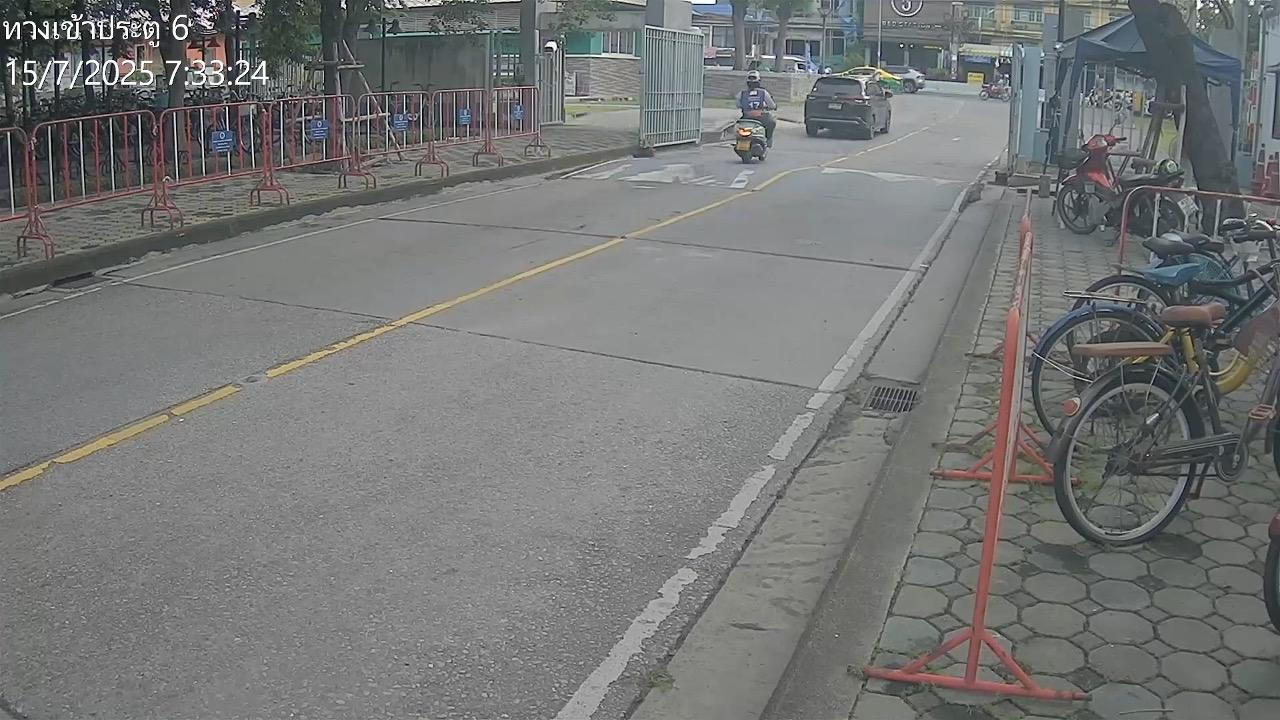With-Helmet: (746, 70, 761, 86)
